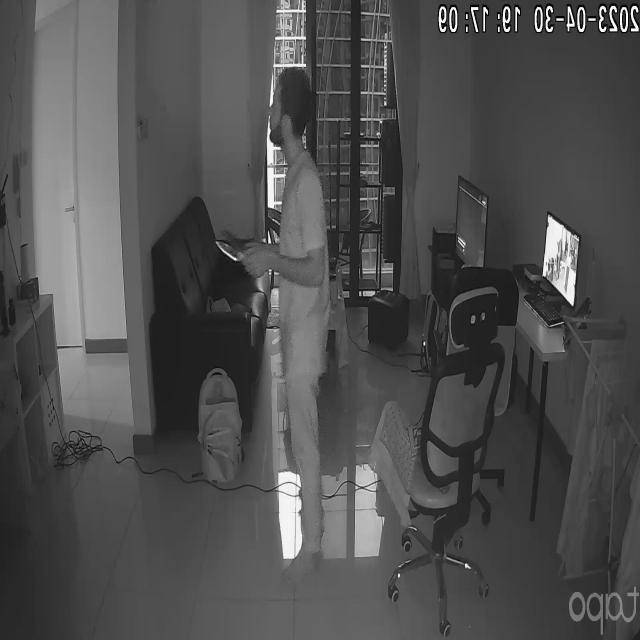Knife: (207, 228, 251, 268)
